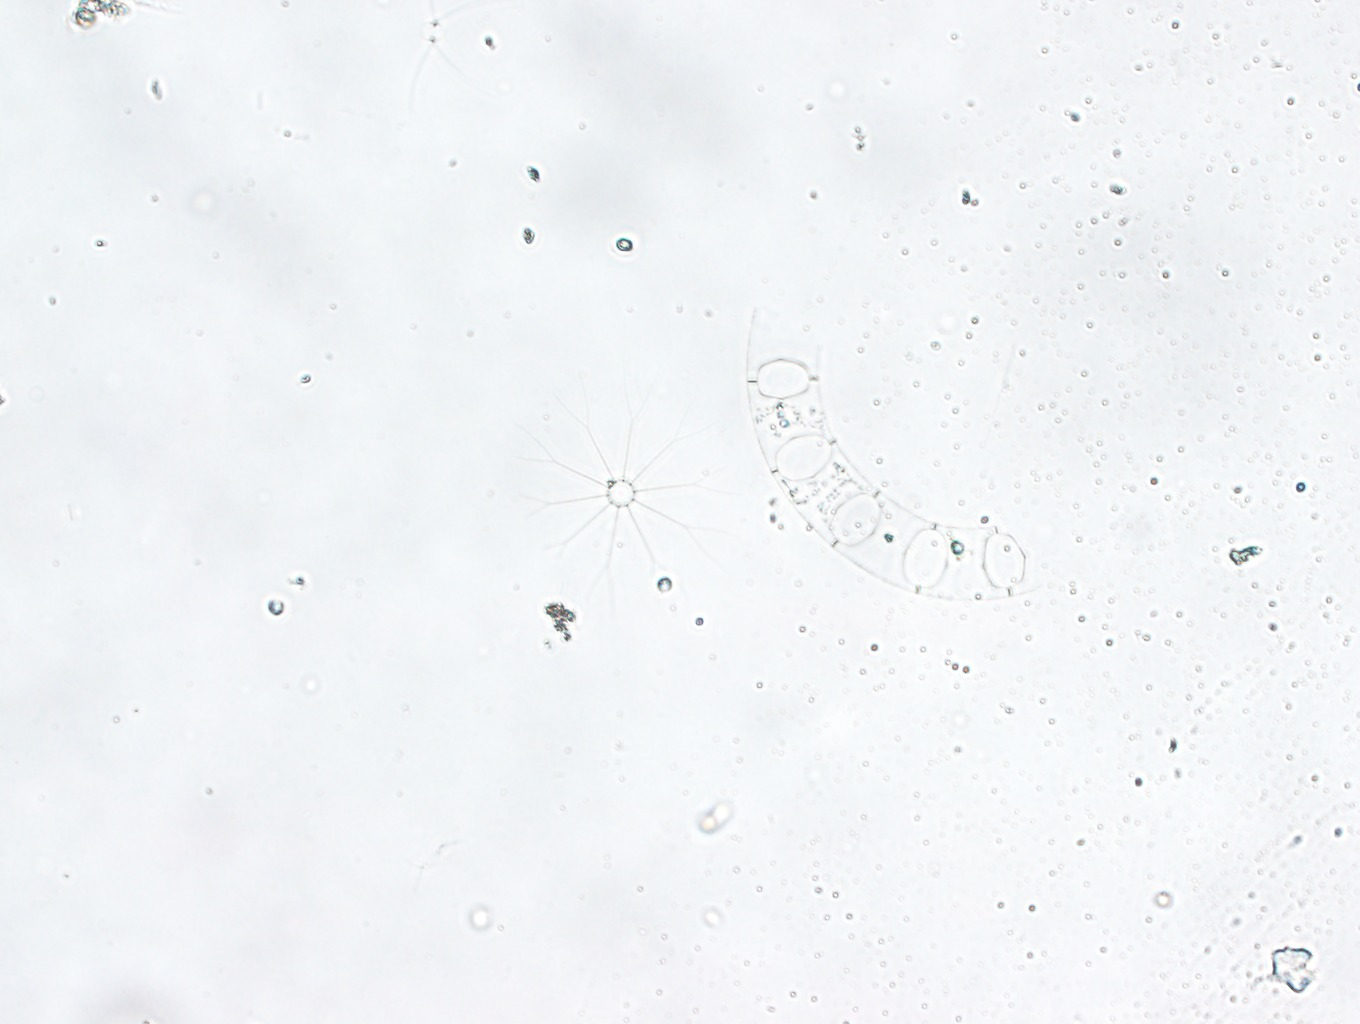bacteriastrum: (500, 384, 736, 596)
eucampia: (745, 308, 1039, 601)
